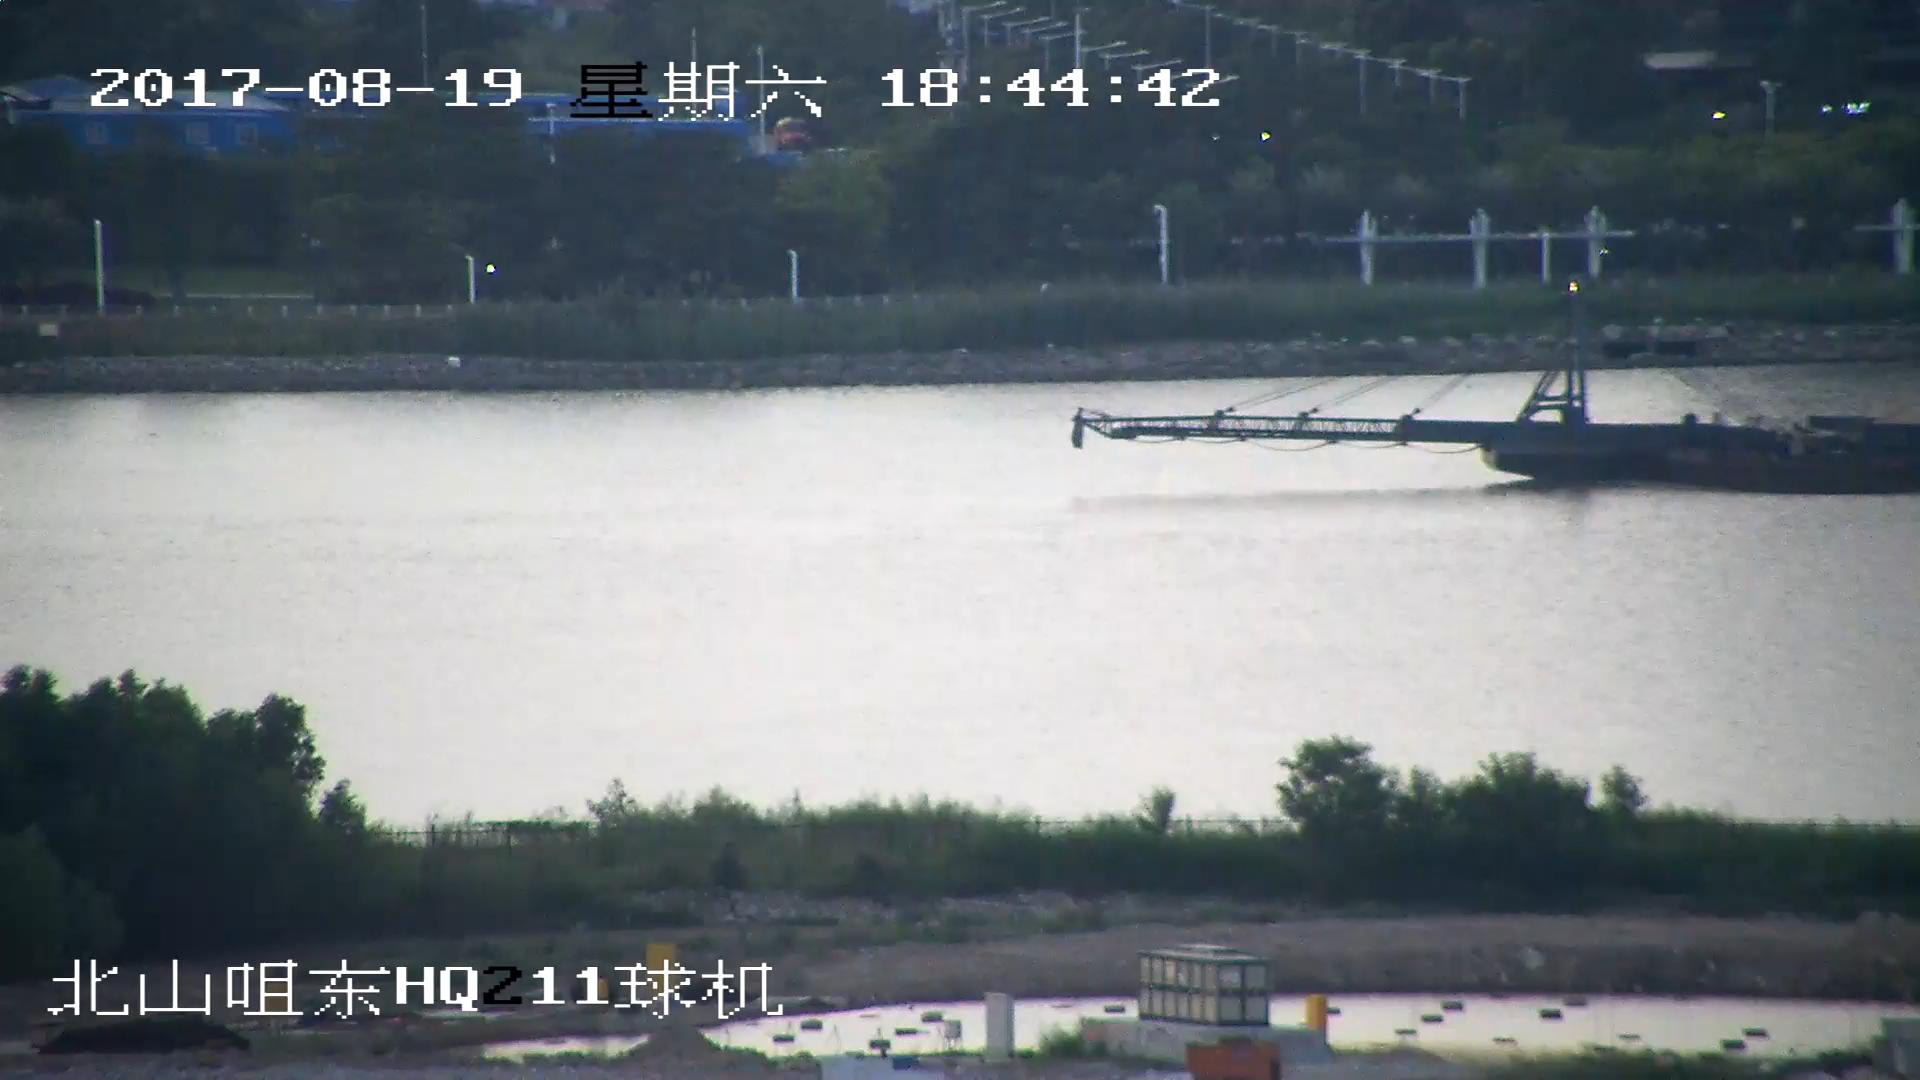ore carrier: (1071, 287, 1920, 499)
